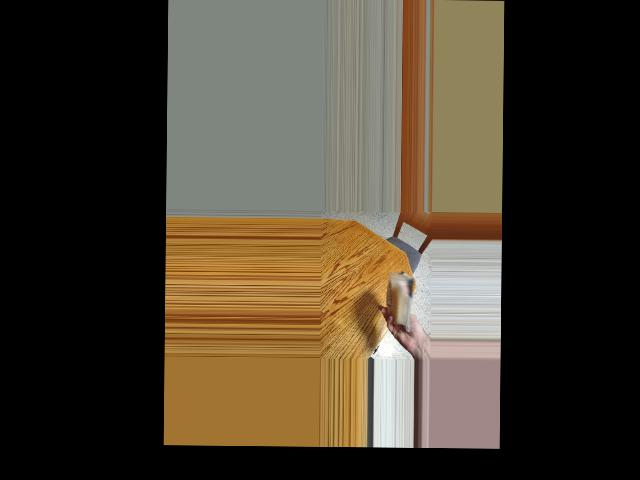cheese: (380, 273, 419, 326)
